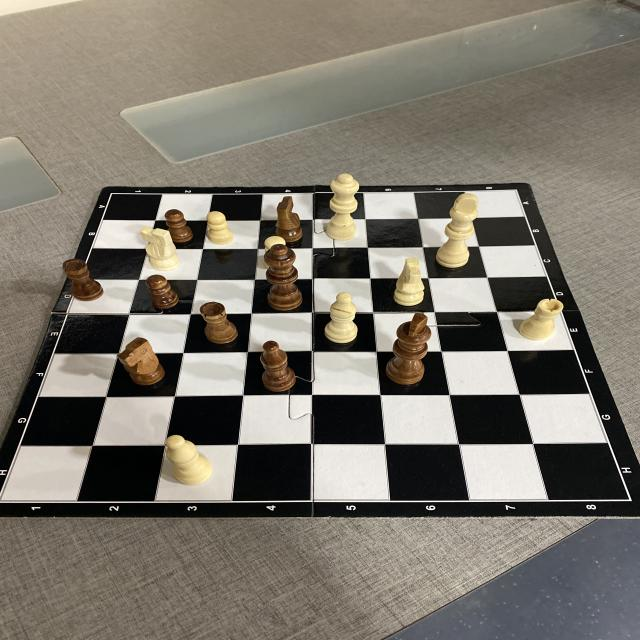Black-Bishop: (259, 340, 293, 395)
Black-King: (384, 312, 434, 385)
Black-Knight: (119, 336, 165, 385), (273, 195, 303, 242)
Black-Pawn: (148, 275, 180, 309), (167, 208, 193, 242)
Black-Queen: (265, 243, 299, 311)
Black-Rook: (63, 259, 104, 301), (200, 300, 238, 344)
White-Bishop: (162, 434, 213, 486), (324, 292, 358, 345)
White-King: (436, 194, 479, 267)
White-Knight: (140, 227, 180, 270), (394, 257, 426, 306)
White-Pawn: (207, 211, 232, 246), (264, 234, 287, 250)
White-Queen: (324, 172, 362, 240)
White-Rook: (519, 298, 565, 341)
